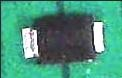diode: (18, 10, 106, 67)
